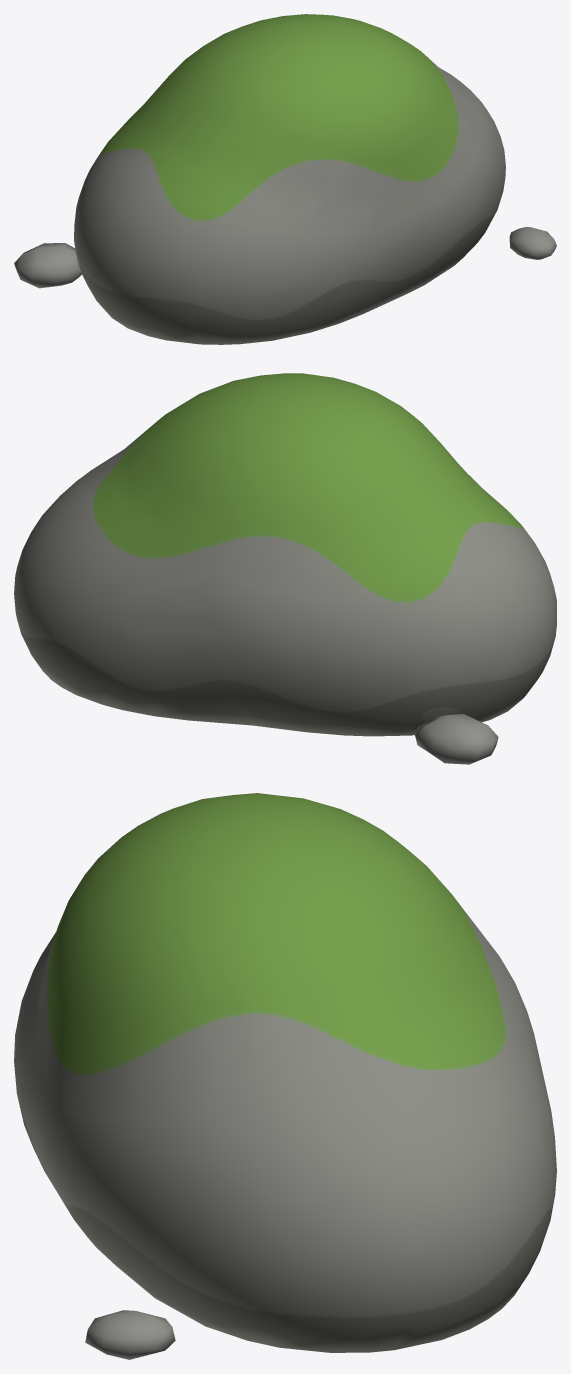
The model's file is Rock.fbx.
3 views of the same model, one above another, from view 1: azimuth 30°, elevation 25°; view 2: azimuth 150°, elevation 25°; view 3: azimuth 270°, elevation 25° (orthographic). The views are drawn at different scales.
Parts seen in each view (by area): view 1: Rock; view 2: Rock; view 3: Rock.
Part boxes in pixels (bbox=[...]): Rock: bbox=[14, 14, 556, 344]; Rock: bbox=[14, 373, 556, 764]; Rock: bbox=[14, 793, 556, 1359].
Size of the model in its own units: 2.05 by 1.09 by 1.39.
1 material, 1 textured.
